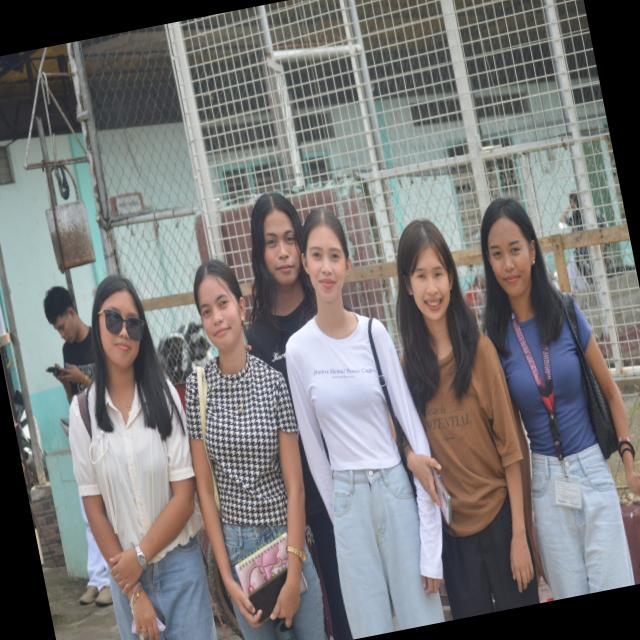person: (286, 210, 443, 638), (481, 198, 639, 599), (397, 220, 539, 618), (70, 275, 216, 639), (186, 259, 324, 639), (299, 439, 352, 639), (44, 287, 94, 403)
